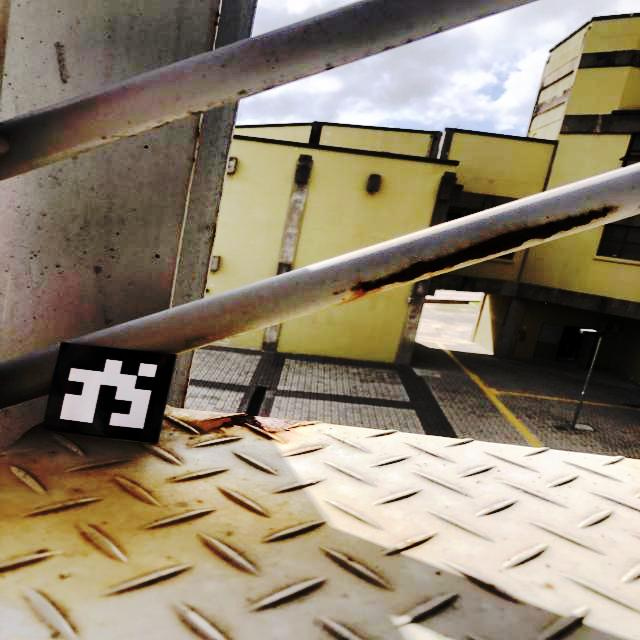Corrosion: (350, 207, 613, 291), (215, 415, 307, 434), (406, 539, 417, 545)
